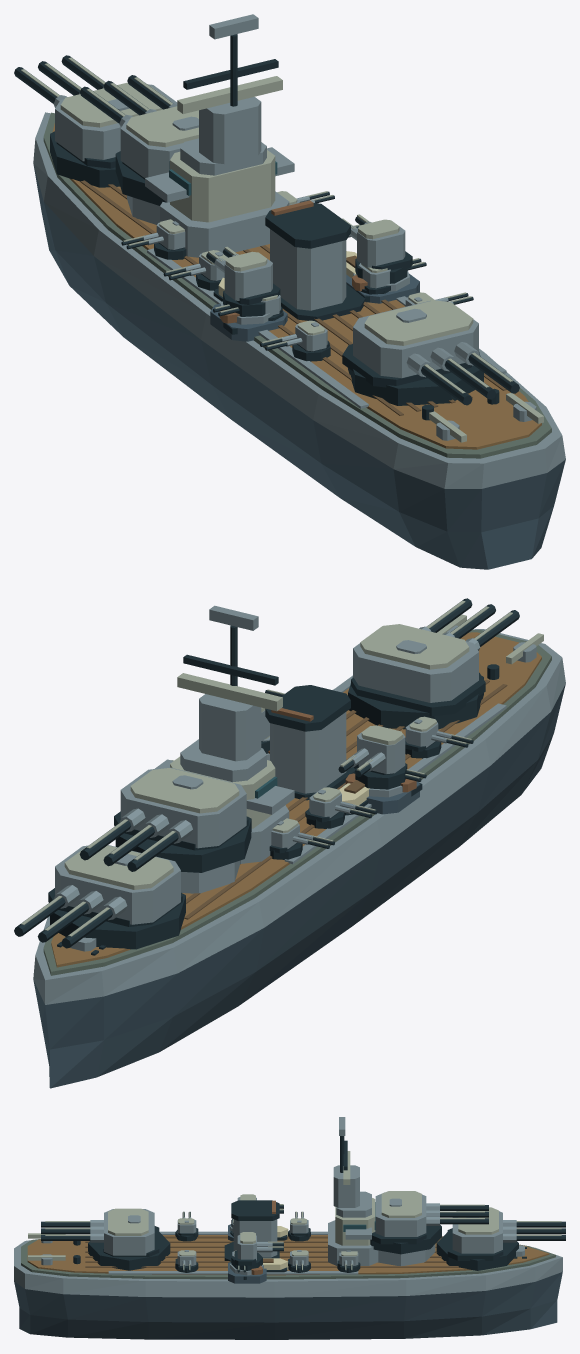
The model's file is historic-south-dakota.glb.
The picture shows the model from 3 angles, top to bottom: view 1: azimuth 30°, elevation 25°; view 2: azimuth 150°, elevation 25°; view 3: azimuth 270°, elevation 25°; orthographic projection. The views are drawn at different scales.
Visible parts, largest first — view 1: historic-south-dakota-historic-south-dakota-geometry, historic-south-dakota-part_bridge.006-geometry, historic-south-dakota-turret_main_2.004-geometry, historic-south-dakota-historic_funnel_0.007-geometry, historic-south-dakota-turret_main_0.005-geometry, historic-south-dakota-turret_main_1.004-geometry, historic-south-dakota-turret_aa_aa-port.008-geometry, historic-south-dakota-turret_aa_aa-starboard.006-geometry, historic-south-dakota-turret_secondary_3.001-geometry, historic-south-dakota-turret_secondary_0.002-geometry, historic-south-dakota-part_aa-port.008-geometry, historic-south-dakota-turret_secondary_1.002-geometry (+2 smaller); view 2: historic-south-dakota-historic-south-dakota-geometry, historic-south-dakota-turret_main_2.004-geometry, historic-south-dakota-part_bridge.006-geometry, historic-south-dakota-turret_main_1.004-geometry, historic-south-dakota-turret_main_0.005-geometry, historic-south-dakota-historic_funnel_0.007-geometry, historic-south-dakota-turret_aa_aa-port.008-geometry, historic-south-dakota-turret_secondary_1.002-geometry, historic-south-dakota-turret_secondary_3.001-geometry, historic-south-dakota-turret_secondary_0.002-geometry, historic-south-dakota-part_aa-port.008-geometry; view 3: historic-south-dakota-historic-south-dakota-geometry, historic-south-dakota-turret_main_2.004-geometry, historic-south-dakota-turret_main_1.004-geometry, historic-south-dakota-turret_main_0.005-geometry, historic-south-dakota-part_bridge.006-geometry, historic-south-dakota-historic_funnel_0.007-geometry, historic-south-dakota-turret_aa_aa-starboard.006-geometry, historic-south-dakota-turret_secondary_3.001-geometry, historic-south-dakota-part_aa-starboard.006-geometry, historic-south-dakota-turret_secondary_1.002-geometry, historic-south-dakota-turret_secondary_7.001-geometry, historic-south-dakota-turret_secondary_4.001-geometry (+1 smaller).
Boxes of the visible parts, bbox=[...] form: historic-south-dakota-historic-south-dakota-geometry: bbox=[33, 112, 565, 569]; historic-south-dakota-part_bridge.006-geometry: bbox=[145, 14, 294, 257]; historic-south-dakota-turret_main_2.004-geometry: bbox=[342, 300, 519, 405]; historic-south-dakota-historic_funnel_0.007-geometry: bbox=[265, 200, 365, 321]; historic-south-dakota-turret_main_0.005-geometry: bbox=[14, 55, 177, 187]; historic-south-dakota-turret_main_1.004-geometry: bbox=[79, 75, 198, 205]; historic-south-dakota-turret_aa_aa-port.008-geometry: bbox=[206, 246, 280, 316]; historic-south-dakota-turret_aa_aa-starboard.006-geometry: bbox=[342, 214, 412, 283]; historic-south-dakota-turret_secondary_3.001-geometry: bbox=[260, 320, 330, 361]; historic-south-dakota-turret_secondary_0.002-geometry: bbox=[121, 219, 186, 259]; historic-south-dakota-part_aa-port.008-geometry: bbox=[210, 301, 287, 341]; historic-south-dakota-turret_secondary_1.002-geometry: bbox=[163, 250, 227, 290]; historic-south-dakota-historic-south-dakota-geometry: bbox=[33, 614, 565, 1088]; historic-south-dakota-turret_main_2.004-geometry: bbox=[348, 598, 519, 729]; historic-south-dakota-part_bridge.006-geometry: bbox=[155, 605, 294, 863]; historic-south-dakota-turret_main_1.004-geometry: bbox=[79, 767, 251, 872]; historic-south-dakota-turret_main_0.005-geometry: bbox=[14, 845, 185, 949]; historic-south-dakota-historic_funnel_0.007-geometry: bbox=[265, 685, 355, 800]; historic-south-dakota-turret_aa_aa-port.008-geometry: bbox=[338, 725, 407, 789]; historic-south-dakota-turret_secondary_1.002-geometry: bbox=[305, 787, 377, 828]; historic-south-dakota-turret_secondary_3.001-geometry: bbox=[405, 716, 473, 758]; historic-south-dakota-turret_secondary_0.002-geometry: bbox=[269, 818, 334, 859]; historic-south-dakota-part_aa-port.008-geometry: bbox=[342, 781, 419, 814]; historic-south-dakota-historic-south-dakota-geometry: bbox=[14, 1226, 562, 1339]; historic-south-dakota-turret_main_2.004-geometry: bbox=[41, 1208, 170, 1270]; historic-south-dakota-turret_main_1.004-geometry: bbox=[370, 1191, 488, 1254]; historic-south-dakota-turret_main_0.005-geometry: bbox=[436, 1207, 565, 1270]; historic-south-dakota-part_bridge.006-geometry: bbox=[328, 1117, 378, 1265]; historic-south-dakota-historic_funnel_0.007-geometry: bbox=[224, 1200, 279, 1261]; historic-south-dakota-turret_aa_aa-starboard.006-geometry: bbox=[231, 1232, 283, 1270]; historic-south-dakota-turret_secondary_3.001-geometry: bbox=[175, 1211, 198, 1241]; historic-south-dakota-part_aa-starboard.006-geometry: bbox=[228, 1262, 266, 1283]; historic-south-dakota-turret_secondary_1.002-geometry: bbox=[288, 1211, 310, 1241]; historic-south-dakota-turret_secondary_7.001-geometry: bbox=[175, 1250, 198, 1272]; historic-south-dakota-turret_secondary_4.001-geometry: bbox=[337, 1250, 360, 1272].
Size of the model in its own units: 1.22 by 1.92 by 4.82.
